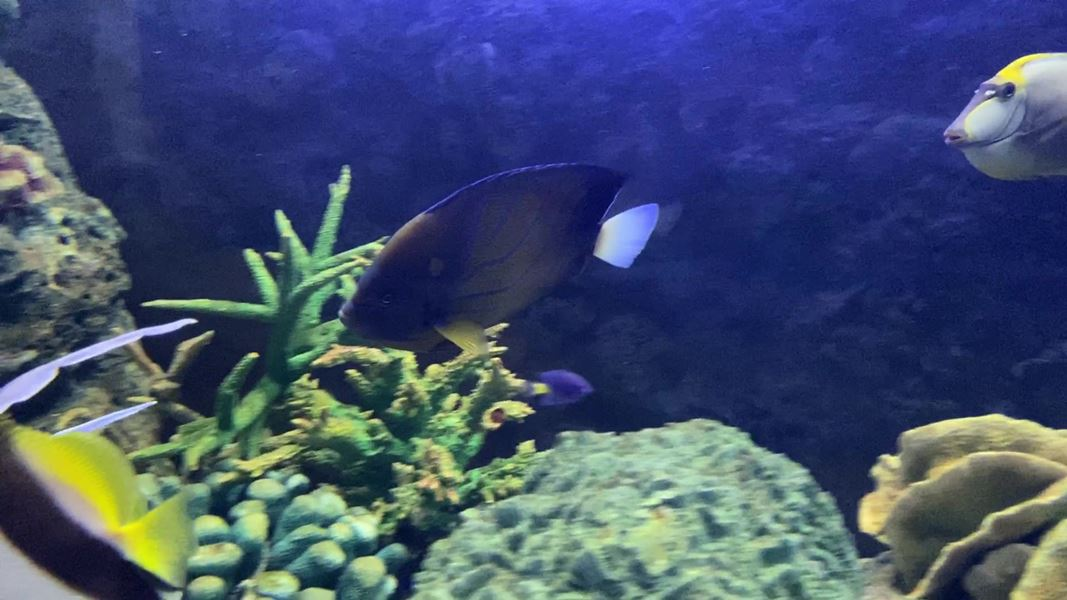Blue ring angelfish: (313, 134, 688, 370)
